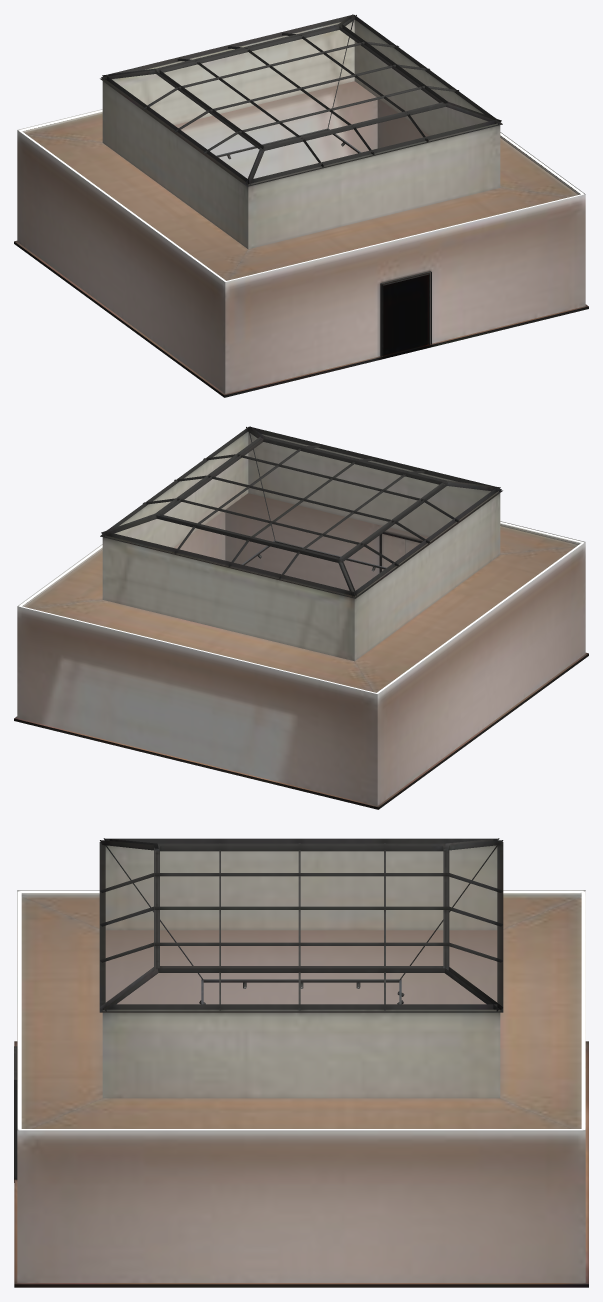
File: stanza editata 3.fbx
3 views of the same model, one above another, from view 1: azimuth 30°, elevation 25°; view 2: azimuth 150°, elevation 25°; view 3: azimuth 270°, elevation 25° (orthographic). The views are drawn at different scales.
Visible parts, largest first — view 1: stanza, pareti; view 2: stanza, pareti; view 3: stanza, pareti.
Boxes of the visible parts, x1,y1,x2,y2 form: stanza: (14, 14, 588, 397); pareti: (17, 81, 585, 393); stanza: (14, 426, 588, 809); pareti: (17, 493, 585, 805); stanza: (14, 838, 588, 1287); pareti: (17, 890, 585, 1282).
Size of the model in its own units: 1012 by 505 by 1012.
